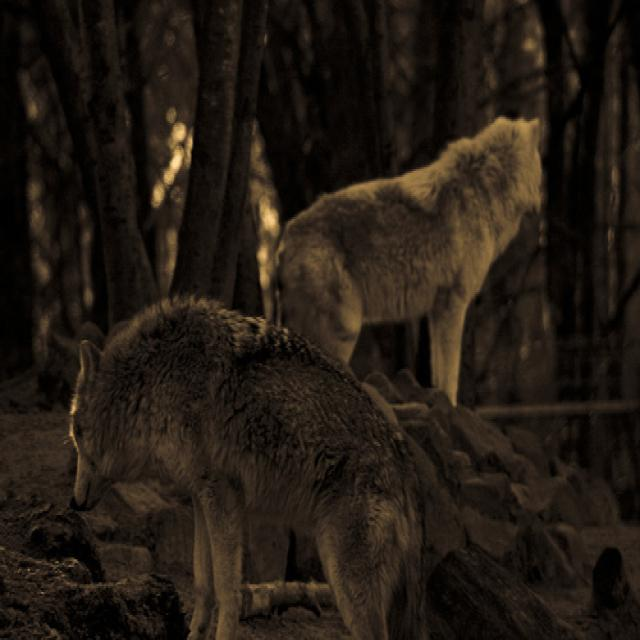Dog: (16, 278, 541, 640), (218, 100, 602, 427)
